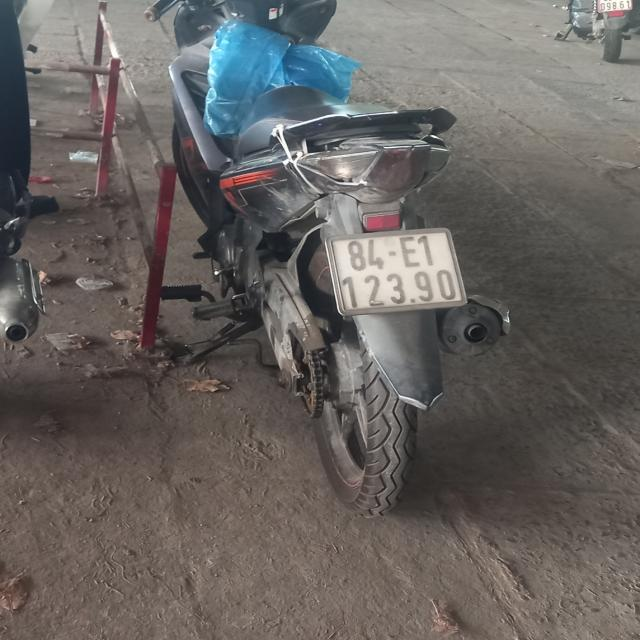0: (436, 268, 455, 301)
1: (340, 276, 358, 308), (417, 234, 434, 267)
2: (365, 274, 383, 306)
3: (385, 272, 405, 305)
4: (368, 239, 387, 270)
8: (347, 241, 367, 273)
9: (414, 271, 434, 302)
E: (400, 236, 421, 268)
